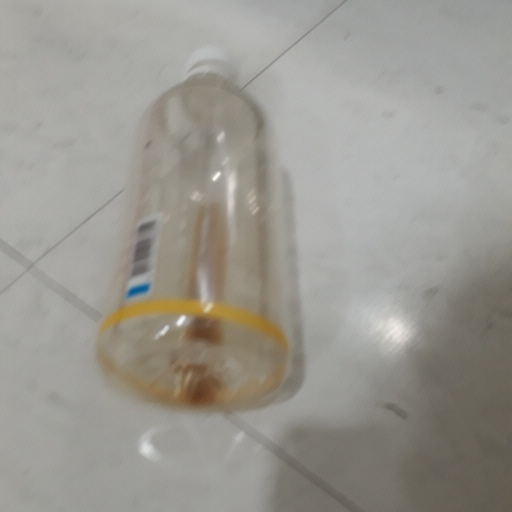Plastic_0: (101, 44, 289, 409)
